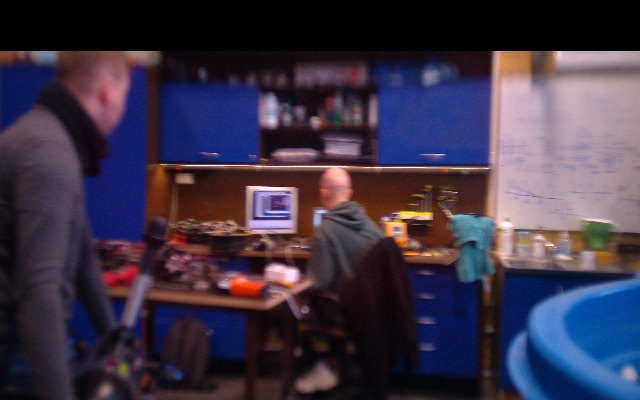black: (119, 271, 155, 332)
